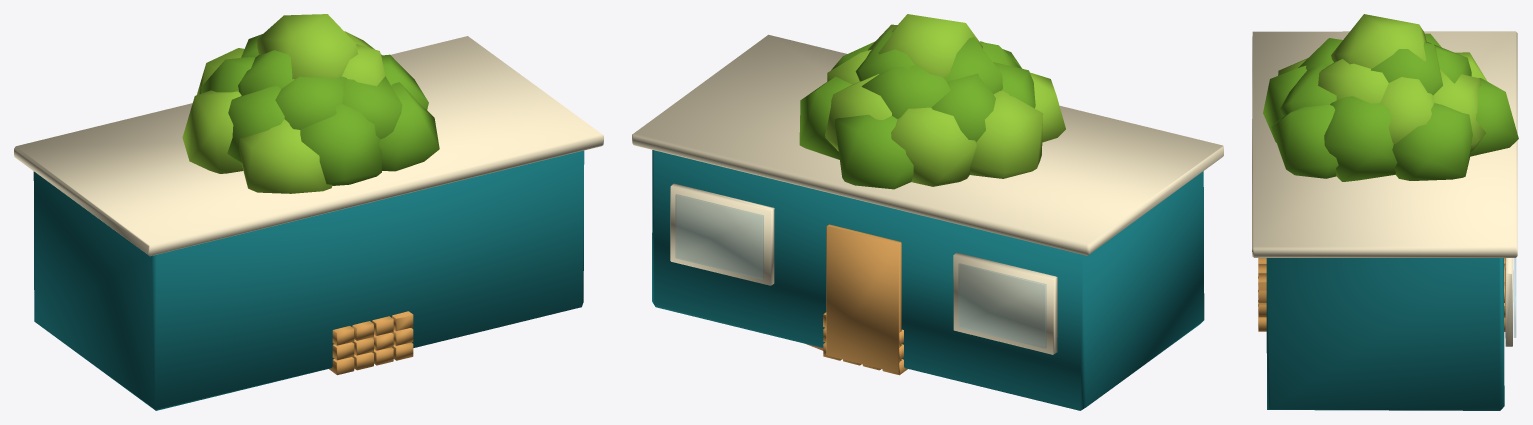
Rendered from environment-low.glb.
3 renders of one model, left to right at view 1: azimuth 30°, elevation 25°; view 2: azimuth 150°, elevation 25°; view 3: azimuth 270°, elevation 25°, orthographic. The views are drawn at different scales.
Visible parts, largest first — view 1: site office, roof, foliage lobe.001, foliage lobe, timber; view 2: site office, roof, foliage lobe, foliage lobe.001, window, door, timber; view 3: site office, roof, foliage lobe.001, foliage lobe, timber.
Boxes of the visible parts, <box> form: site office: <box>33,150,584,410</box>; roof: <box>14,36,603,256</box>; foliage lobe.001: <box>201,34,439,185</box>; foliage lobe: <box>182,14,385,193</box>; timber: <box>329,311,413,375</box>; site office: <box>652,150,1204,410</box>; roof: <box>632,34,1223,354</box>; foliage lobe: <box>825,14,1065,186</box>; foliage lobe.001: <box>799,31,1035,189</box>; window: <box>675,194,1046,348</box>; door: <box>826,224,901,372</box>; timber: <box>823,312,907,375</box>; site office: <box>1266,258,1504,410</box>; roof: <box>1252,31,1517,346</box>; foliage lobe.001: <box>1263,33,1518,181</box>; foliage lobe: <box>1278,14,1487,152</box>; timber: <box>1258,258,1505,331</box>.
Size of the model in its own units: 8.09 by 5.61 by 4.21.
